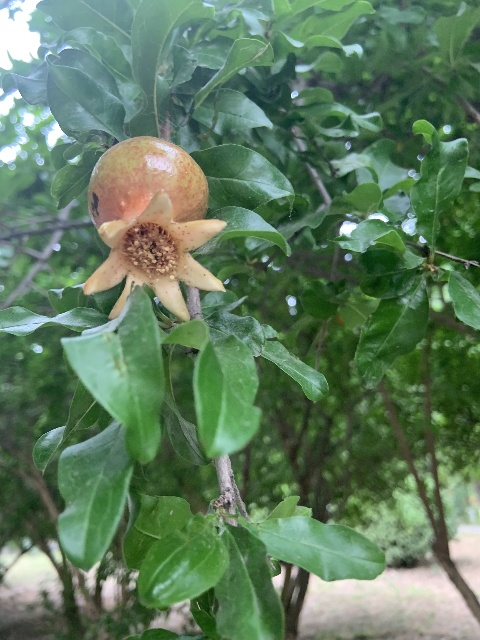early-fruit: (81, 136, 227, 323)
